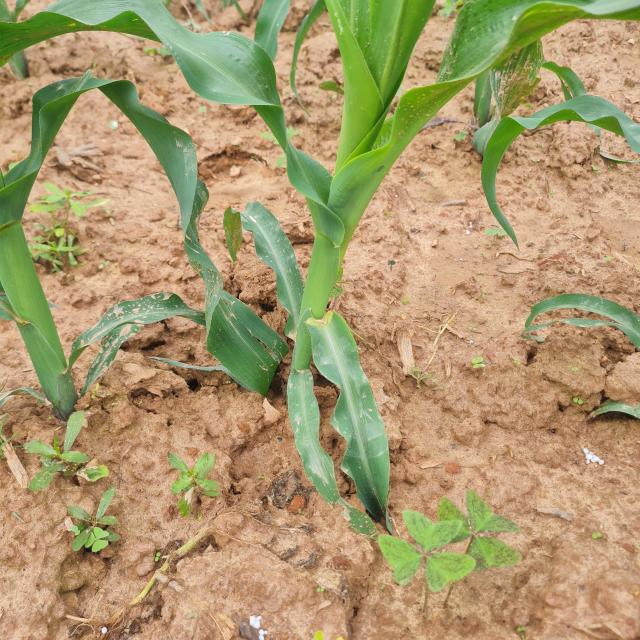maize: (227, 3, 492, 504), (0, 1, 239, 437)
weed: (365, 496, 533, 599), (28, 179, 124, 274), (15, 399, 104, 492), (53, 490, 133, 564), (160, 446, 226, 518), (405, 363, 433, 390), (567, 383, 585, 416), (452, 122, 473, 147), (467, 354, 490, 376)
